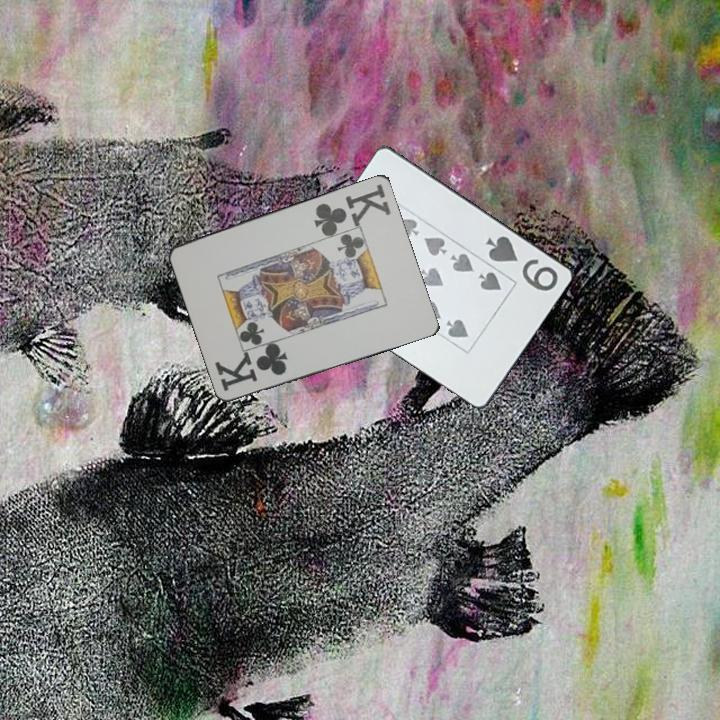9s: (482, 232, 562, 294)
Kc: (309, 180, 394, 238), (213, 342, 291, 394)
